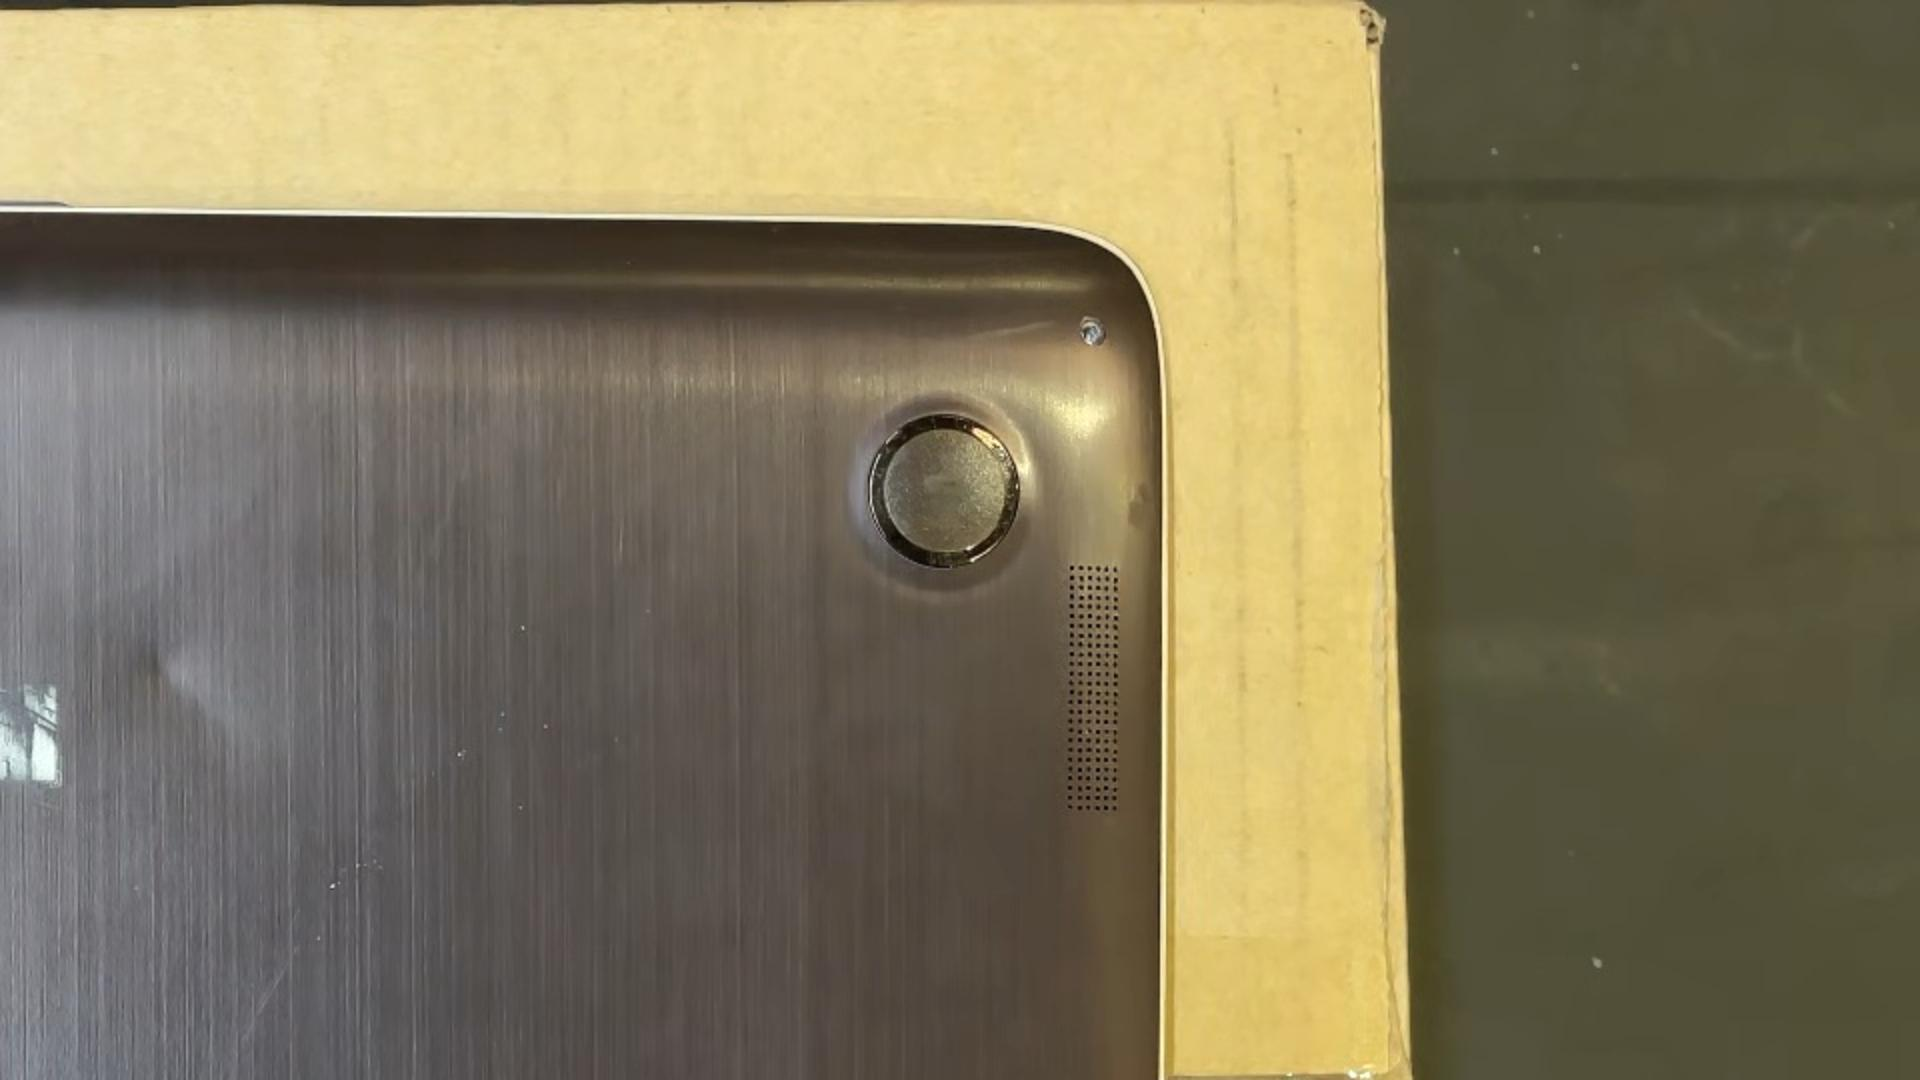chip: (327, 882, 339, 891), (456, 750, 465, 758), (518, 624, 526, 633), (517, 804, 524, 812), (498, 711, 505, 717), (355, 862, 361, 869), (315, 935, 322, 942), (543, 723, 549, 729), (497, 727, 502, 733)
scratches: (240, 943, 302, 1042), (964, 316, 1055, 342)
